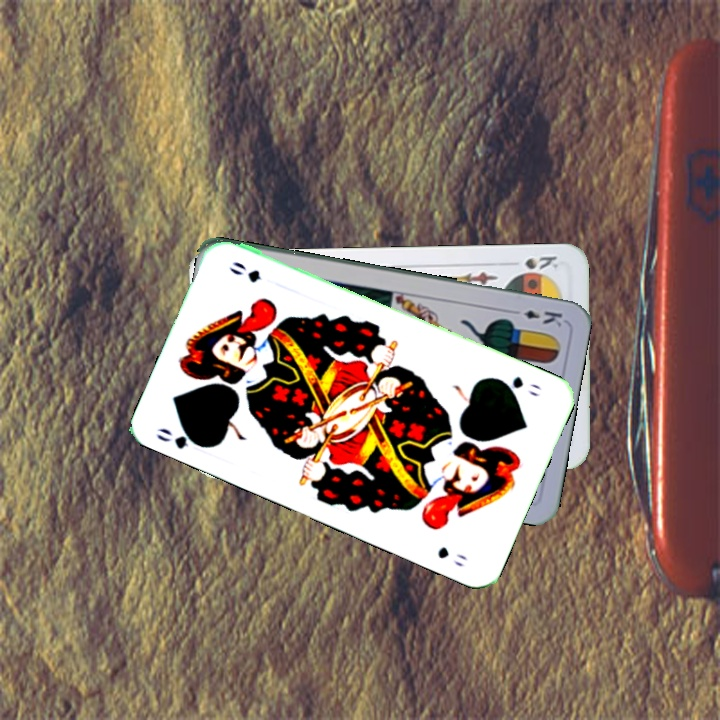EK: (506, 305, 565, 329)
GO: (152, 423, 211, 452), (492, 372, 545, 400)
SK: (520, 252, 561, 272)
